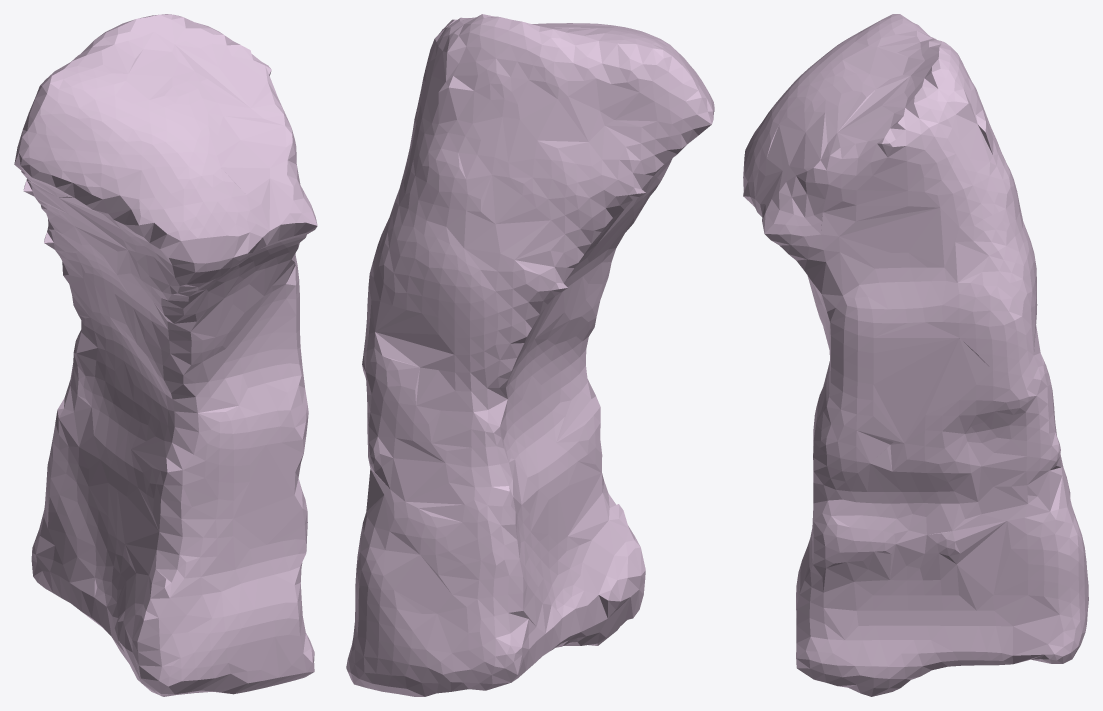
File: Model_10050_LH__Area_14_of_cortex__rostral_part_(A14R).obj
The picture shows the model from 3 angles, left to right: view 1: azimuth 30°, elevation 25°; view 2: azimuth 150°, elevation 25°; view 3: azimuth 270°, elevation 25°; orthographic projection. The views are drawn at different scales.
Size of the model in its own units: 1.69 by 3.88 by 2.02.
